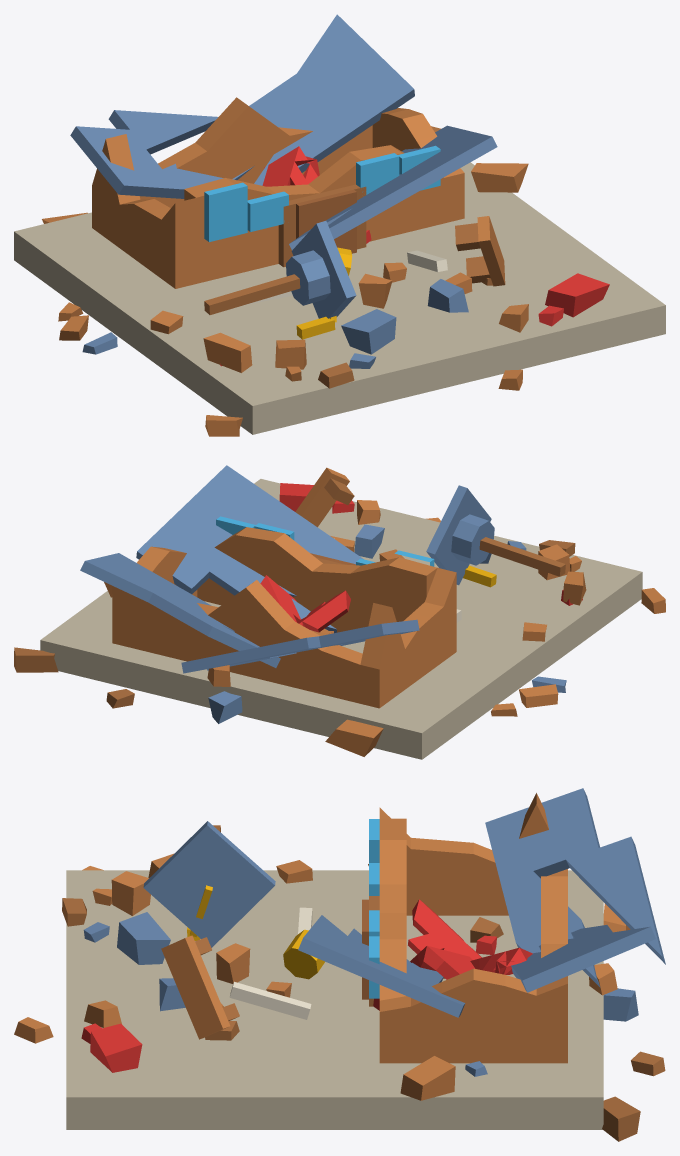
The model's file is university_t1_v1_dmg2.glb.
3 renders of one model, top to bottom at view 1: azimuth 30°, elevation 25°; view 2: azimuth 150°, elevation 25°; view 3: azimuth 270°, elevation 25°, orthographic. The views are drawn at different scales.
Visible parts, largest first — view 1: university_t1_v1_dmg2; view 2: university_t1_v1_dmg2; view 3: university_t1_v1_dmg2.
Boxes of the visible parts, x1,y1,x2,y2 form: university_t1_v1_dmg2: (14, 14, 665, 436); university_t1_v1_dmg2: (14, 465, 665, 759); university_t1_v1_dmg2: (14, 788, 665, 1141).
Size of the model in its own units: 0.7055 by 0.2035 by 0.728.
Materials: 1 (1 with a texture image).
